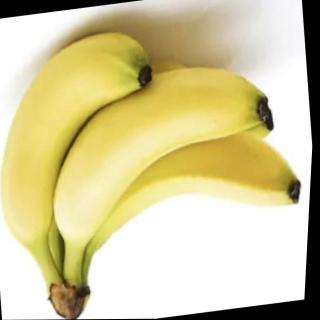banana: (37, 53, 287, 246), (0, 25, 174, 252), (74, 116, 314, 254)
